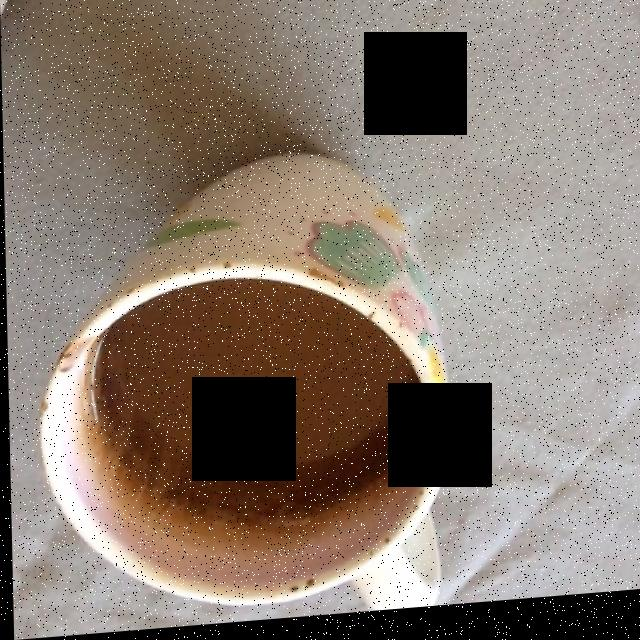herbal-tea: (92, 292, 423, 541)
